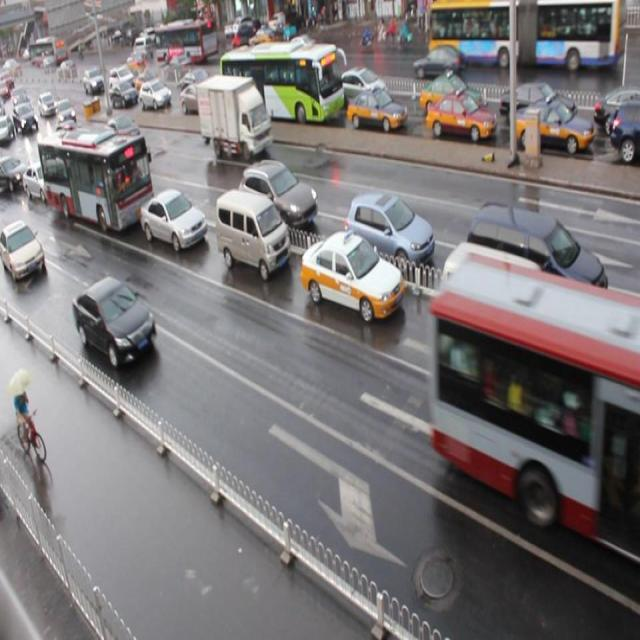BigCar: (436, 258, 640, 550), (35, 117, 153, 250), (421, 0, 630, 63), (220, 42, 346, 124), (147, 15, 218, 66)
car: (469, 183, 611, 295), (67, 263, 164, 382), (300, 224, 404, 334), (340, 178, 437, 276), (211, 179, 290, 296), (196, 76, 272, 168), (241, 149, 320, 235), (514, 90, 591, 160), (140, 180, 207, 260), (422, 87, 501, 149), (0, 221, 49, 289), (351, 84, 406, 136), (414, 34, 461, 89), (1, 148, 27, 202), (138, 79, 174, 117), (11, 99, 41, 140), (110, 79, 139, 115), (82, 65, 105, 100), (36, 86, 56, 120), (52, 96, 78, 122)
